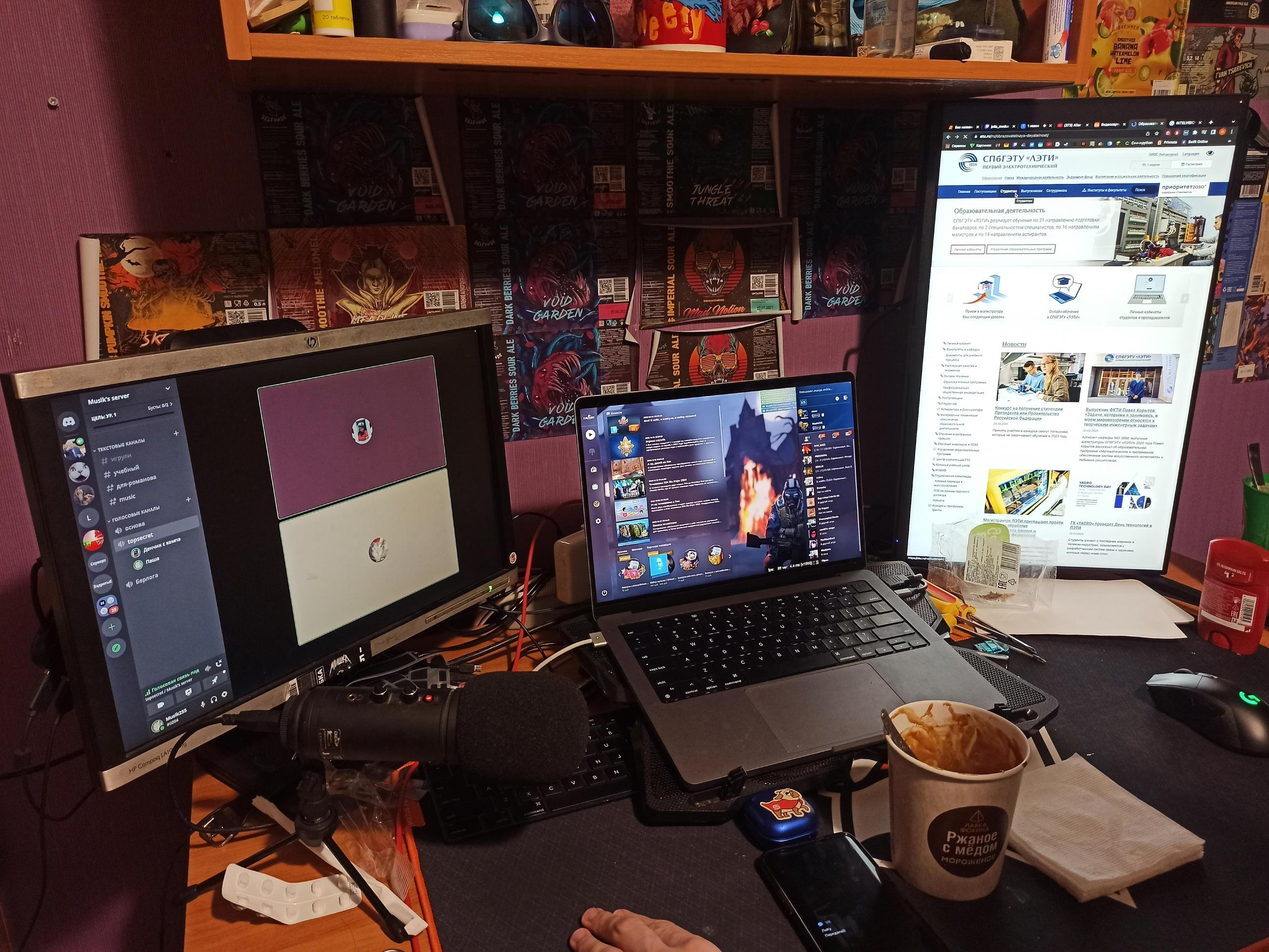monitor: (0, 301, 530, 803), (876, 84, 1251, 583), (580, 370, 871, 612)
